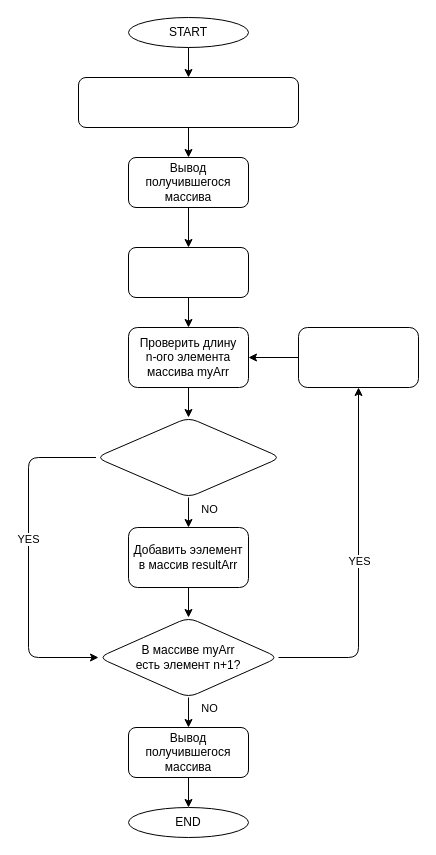
Some shapes in this 436 by 855 pixel diagram are drawn without their labels. Here are the shapes that lost their labels. From the top down, the centre of each, then its label:
At (x=188, y=102): "Создать новый массив myArr введенными с клавиатуры элементами".
At (x=188, y=272): "Создать новый массив resultArr".
At (x=358, y=357): "n = n + 1".
At (x=188, y=457): "Элемент больше m символов?".
